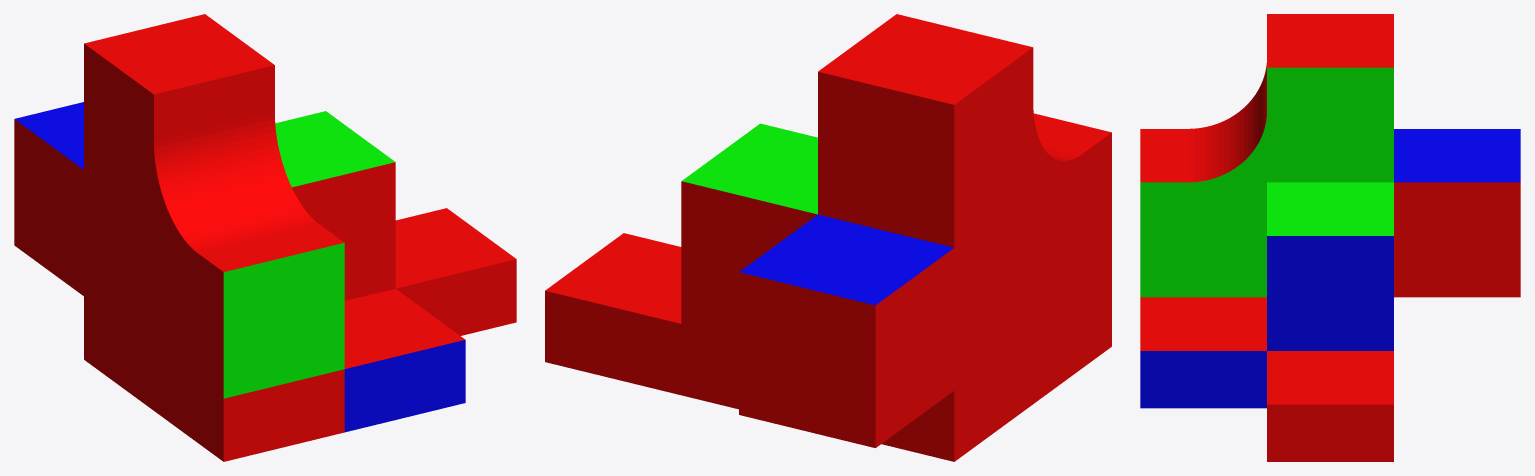
Rendered from ColorBlocks1.fbx.
3 views of the same model, side by side, from view 1: azimuth 30°, elevation 25°; view 2: azimuth 150°, elevation 25°; view 3: azimuth 270°, elevation 25° (orthographic). The views are drawn at different scales.
Visible parts, largest first — view 1: Cube; view 2: Cube; view 3: Cube.
Boxes of the visible parts, x1,y1,x2,y2 form: Cube: [14, 14, 516, 461]; Cube: [545, 14, 1111, 461]; Cube: [1140, 14, 1520, 461].
Bounding box in the file's own units: 600 × 500 × 600.
